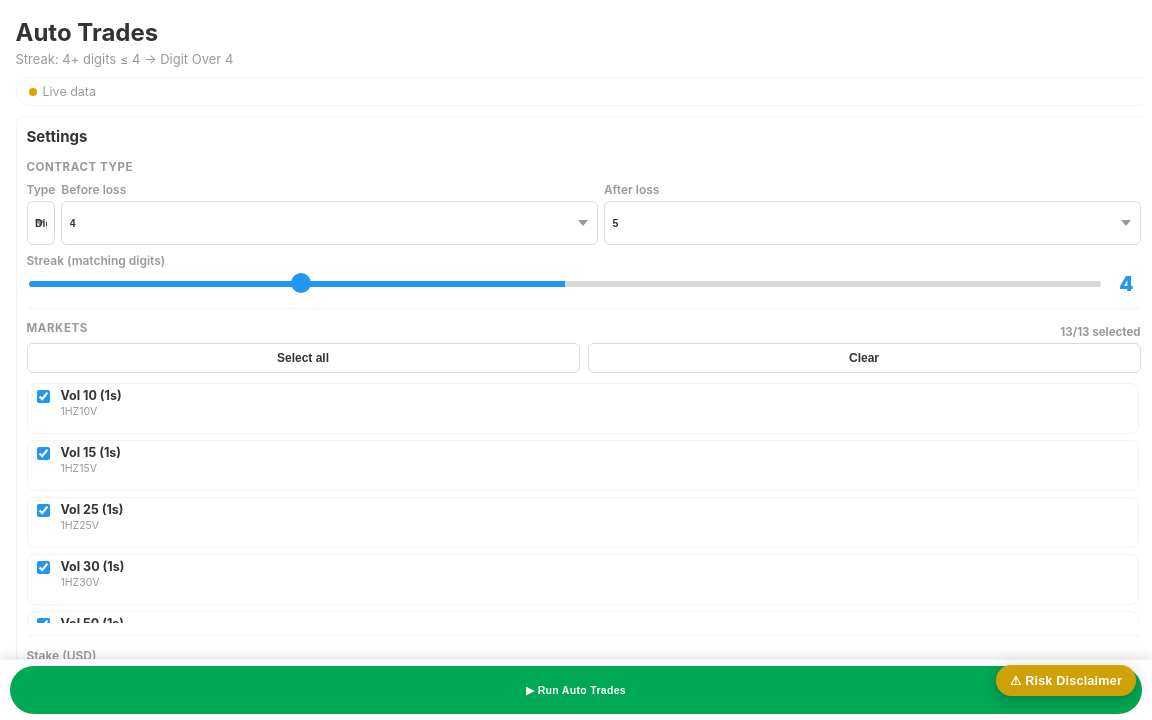
Test: <AutoTrades /> › allows clearing and reselecting markets
Check: the text "13/13 selected" is shown, box [1060,325,1140,339]
Click the button "Clear".
click(864, 358)  # box [588,343,1140,373]
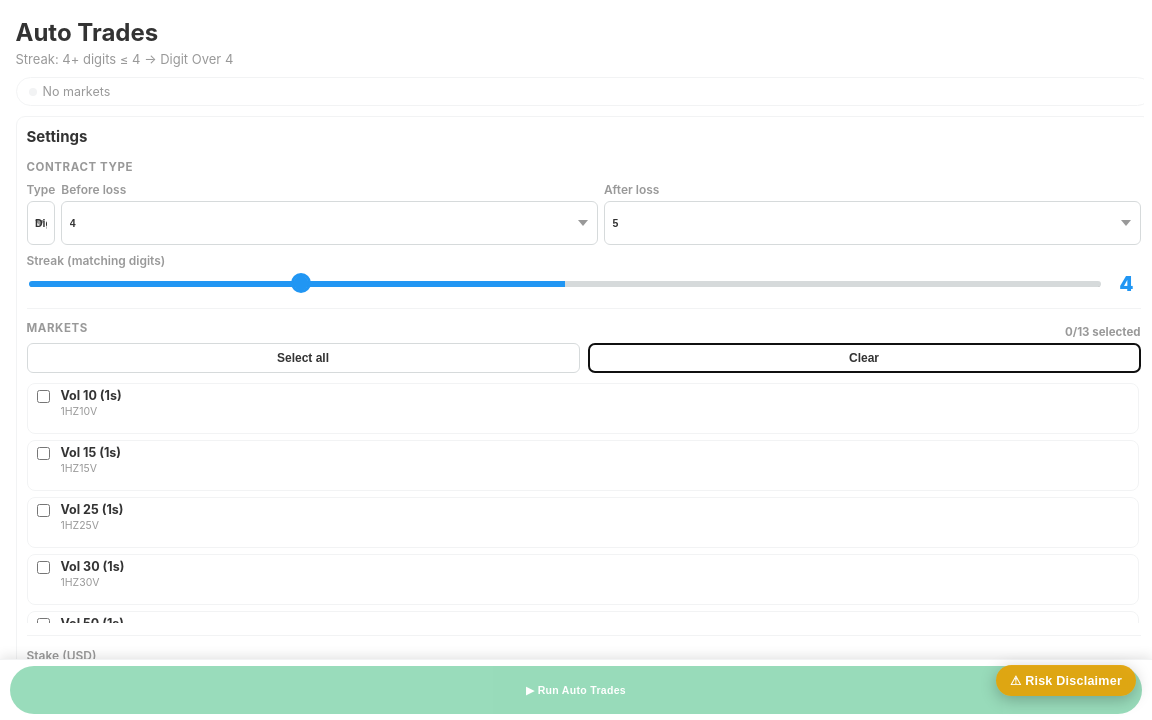
Check: the text "0/13 selected" is shown, box [1065,325,1140,339]
Check: the button "▶ Run Auto Trades" is disabled, box [10,666,1142,714]
Click the button "Select all".
click(303, 358)  # box [26,343,580,373]
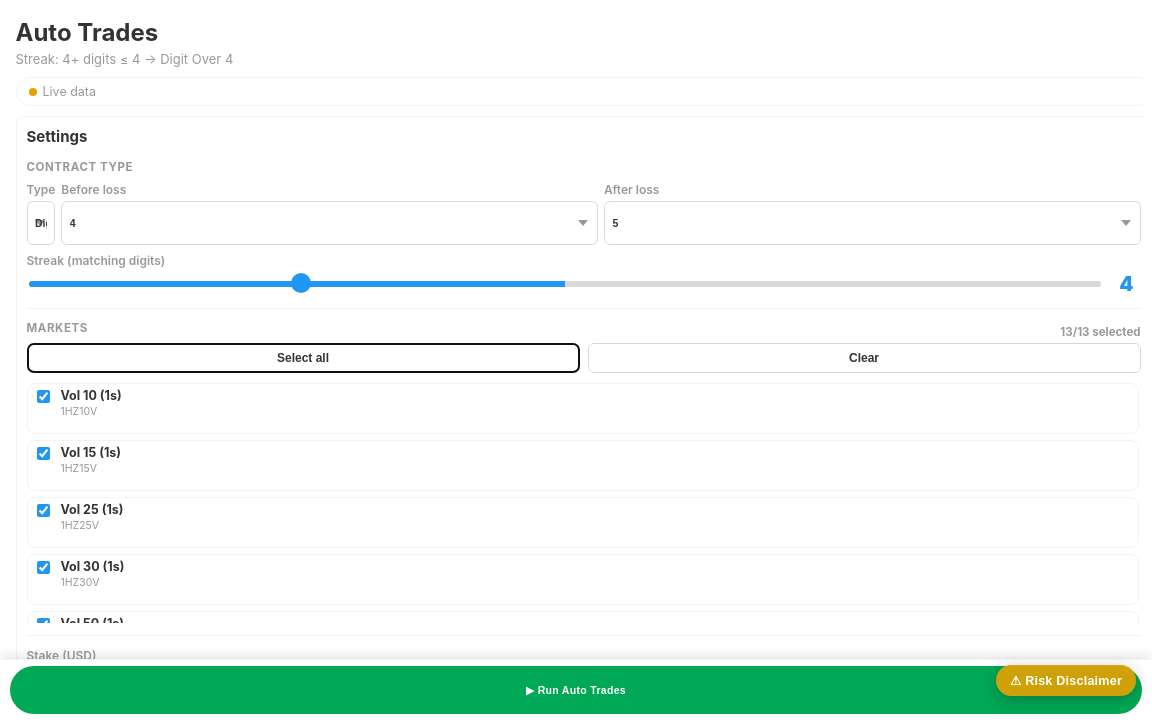
Check: the text "13/13 selected" is shown, box [1060,325,1140,339]
Check: the button "▶ Run Auto Trades" is enabled, box [10,666,1142,714]
